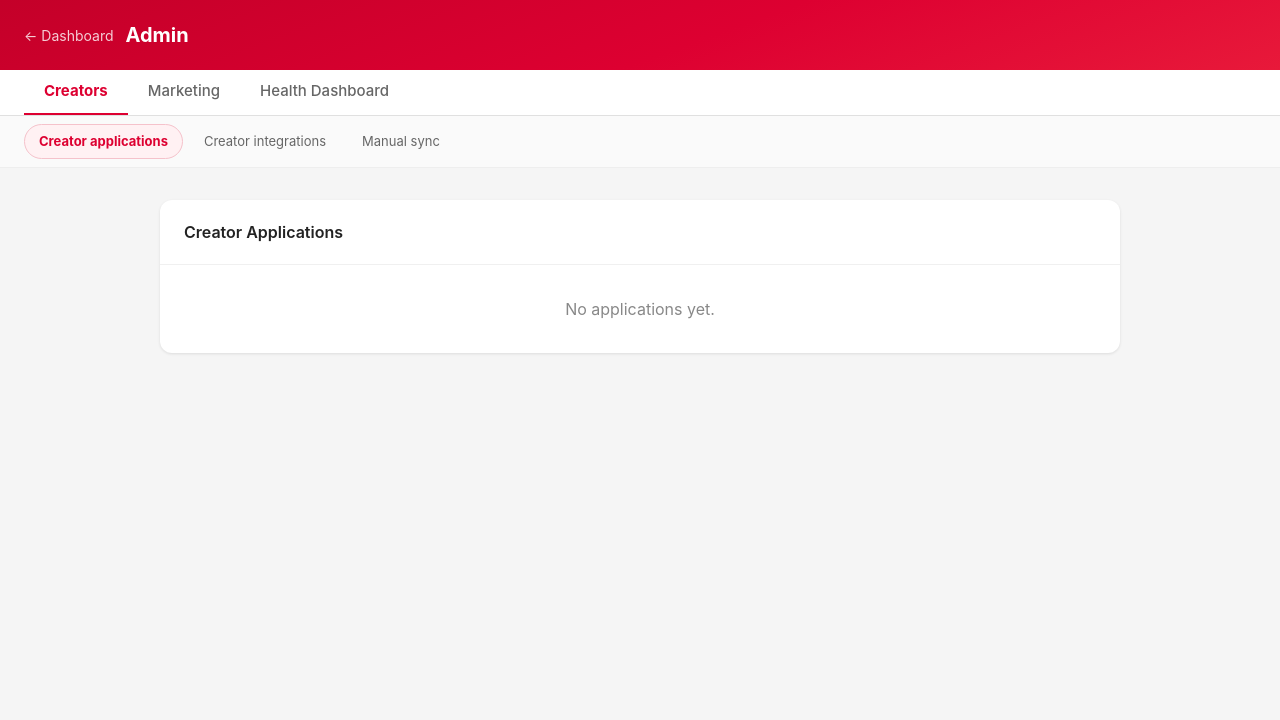
admin Sources tab — poll health › puts the broken creator first, whatever order the API returned
Click the button "Creator integrations": (265, 141) 189,124 -> 341,159
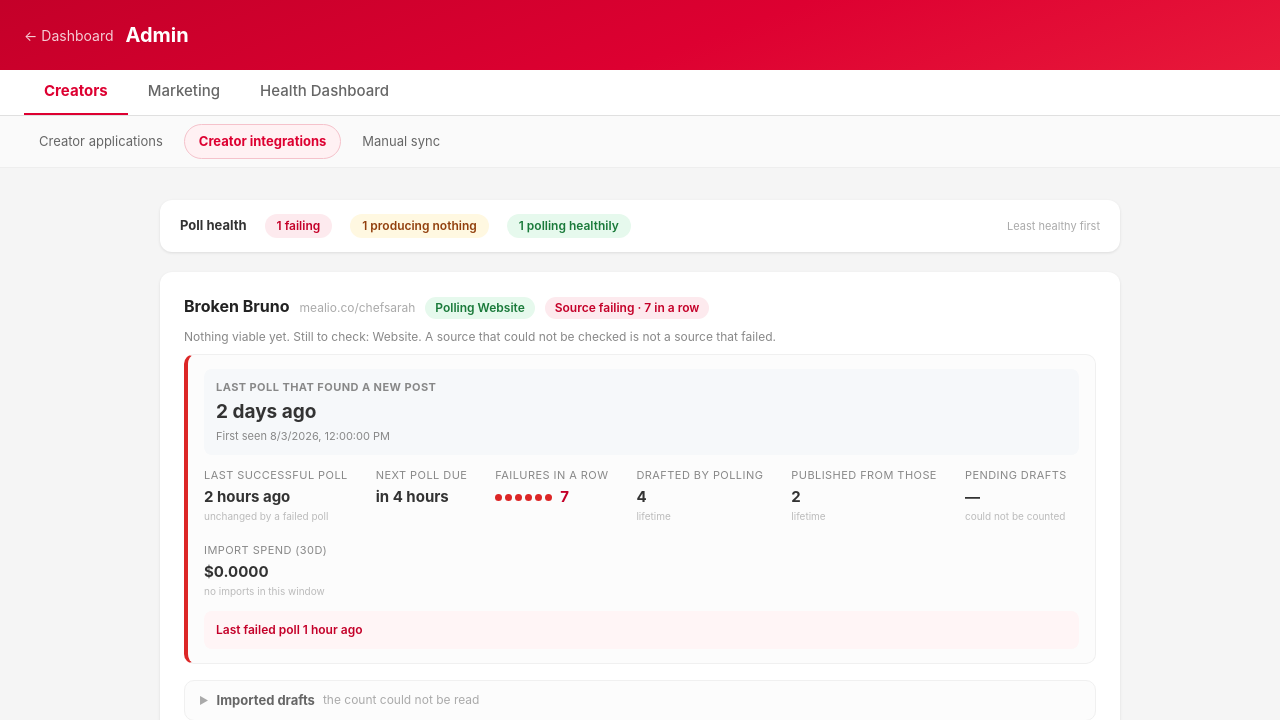
Now the element with test id "poll-health-summary" is shown, box 160,200 -> 1120,252
